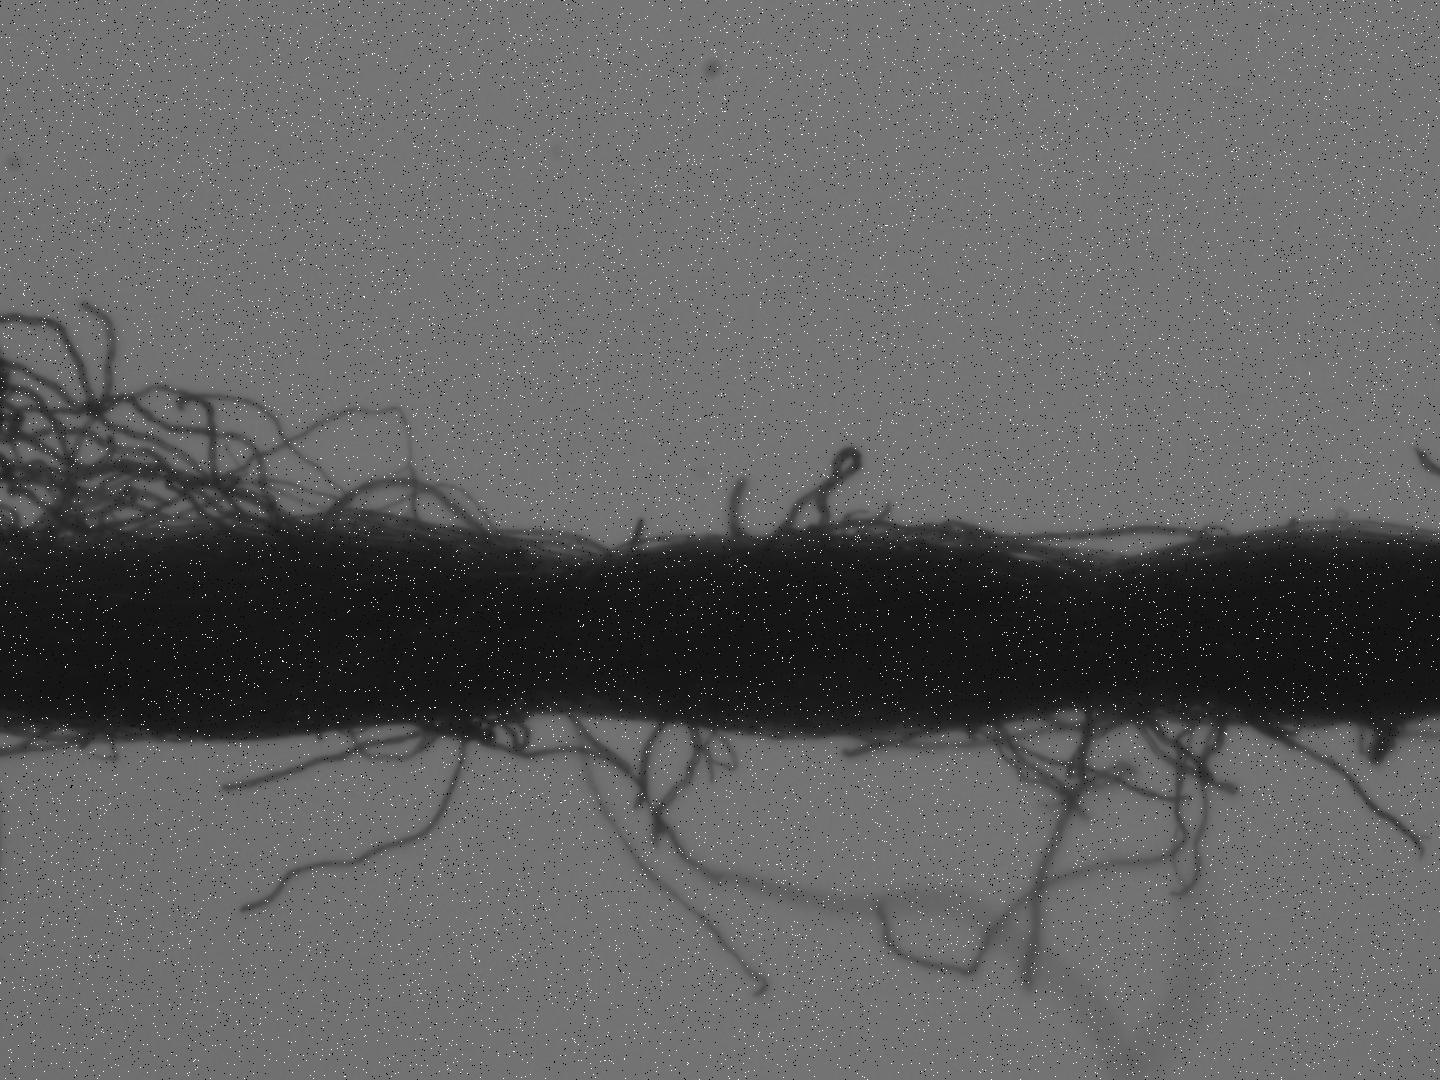loop_fiber: (35, 464, 319, 555), (821, 515, 1225, 573), (315, 475, 509, 552), (887, 521, 1113, 571), (866, 711, 1137, 749), (773, 447, 862, 547), (1146, 709, 1226, 781), (449, 530, 615, 564), (350, 720, 433, 762), (1130, 699, 1213, 737), (432, 715, 523, 748), (1044, 707, 1129, 734), (620, 531, 705, 557), (488, 709, 530, 748), (1260, 715, 1301, 737)
protruding_fiber: (875, 728, 1189, 979), (575, 714, 772, 1004), (238, 733, 468, 916), (1262, 722, 1428, 853), (1023, 708, 1094, 989), (227, 737, 425, 794), (1169, 723, 1225, 898), (655, 736, 700, 844), (635, 722, 674, 807), (729, 478, 746, 546)
